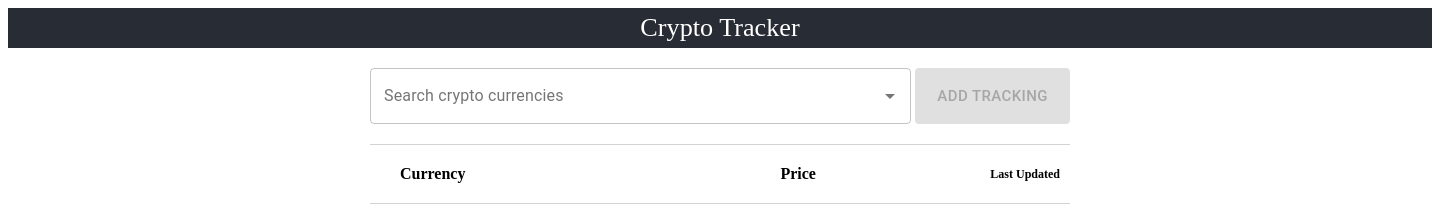
it: choosing a suggestion enables the tracking button
The width and height of the screenshot is (1440, 221).
Type "ae" into the field labelled "Search crypto currencies". click: (613, 96)
box: [379,77,846,115]
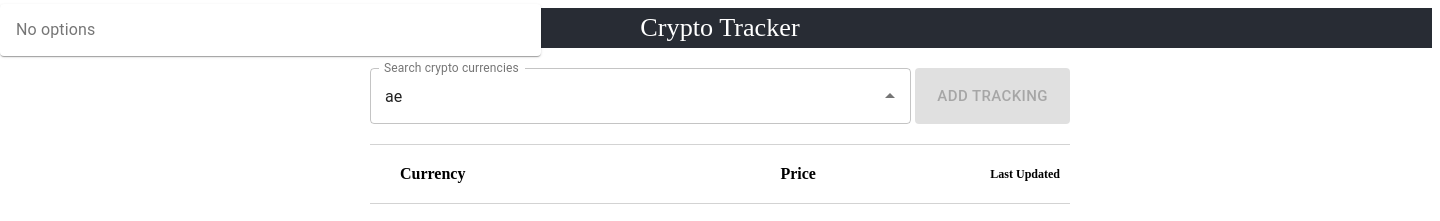
Press ArrowDown in the field labelled "Search crypto currencies", box [379,77,846,115]
Press Enter in the field labelled "Search crypto currencies", box [379,77,846,115]
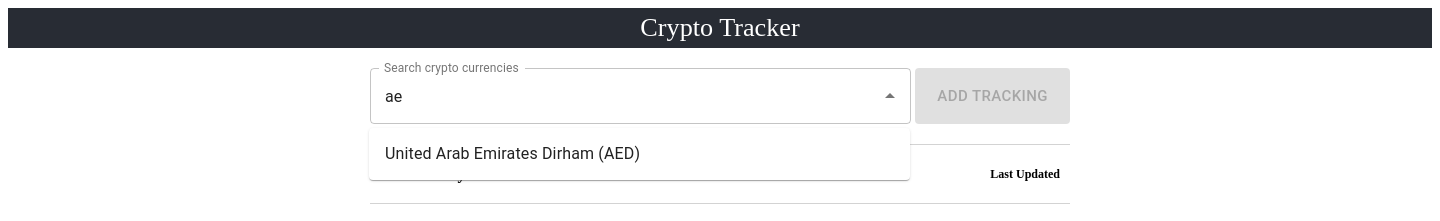
Check: the element showing "United Arab Emirates Dirham (AED)" is shown, box [369,124,910,184]
Note: select currency from options
Click the option "United Arab Emirates Dirham (AED)". click: click(513, 154)
box: [385,144,640,163]
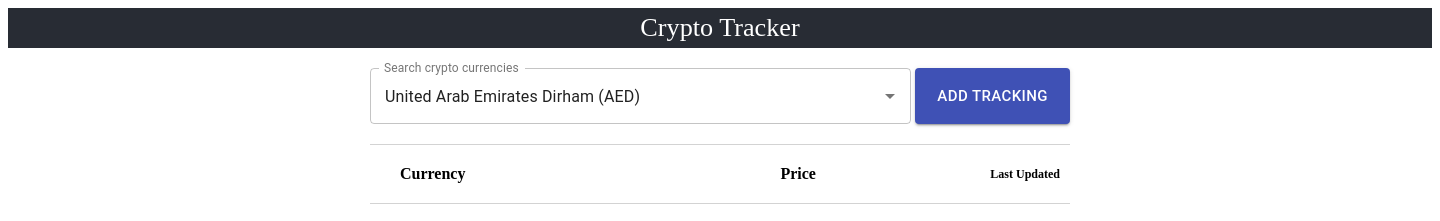
Check: the field labelled "Search crypto currencies" holds "United Arab Emirates Dirham (AED)", box [379,77,846,115]
Check: the button "Add Tracking" is enabled, box [915,68,1070,124]
